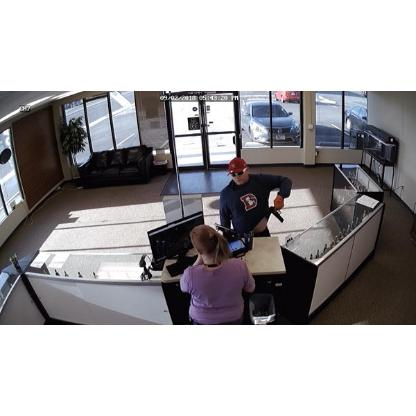gun: (268, 202, 286, 220)
